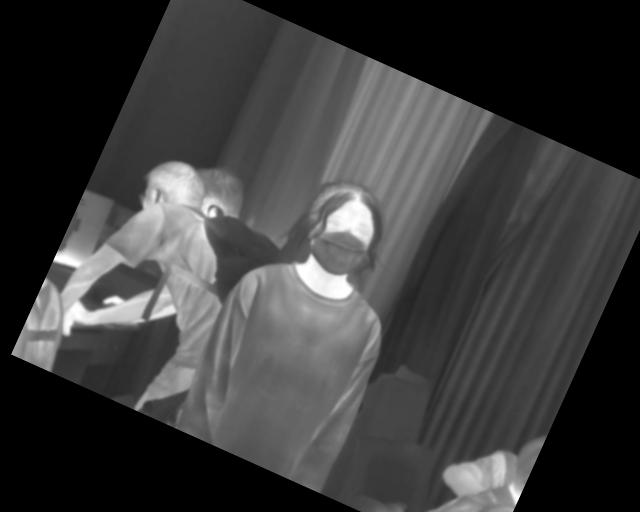face: (244, 247, 358, 375)
